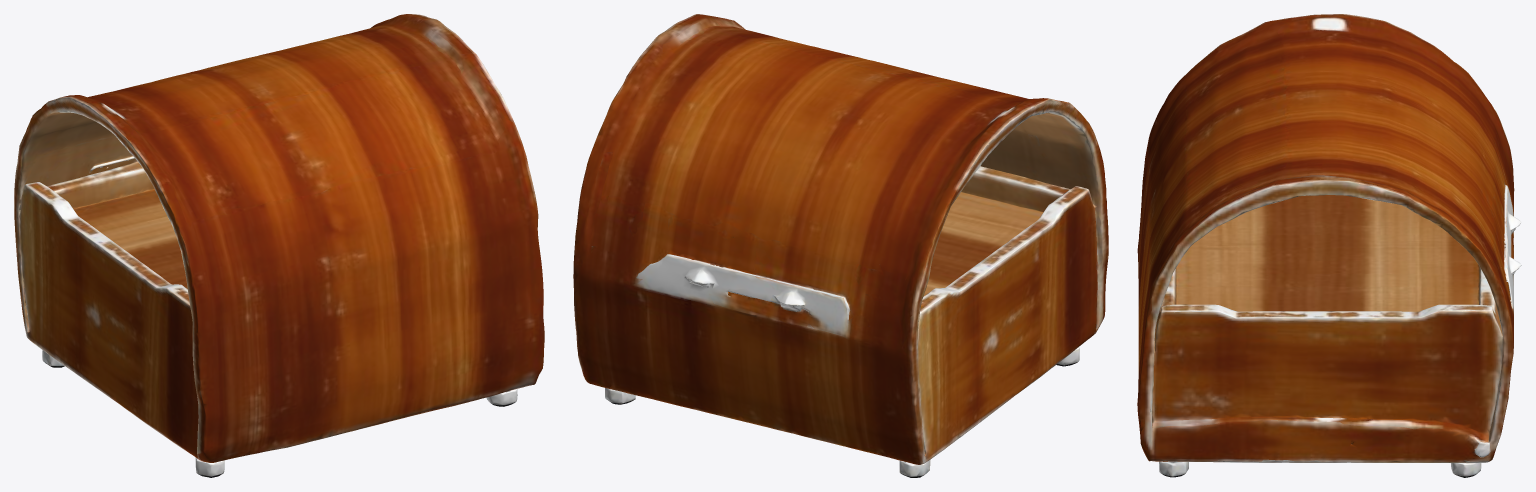
3 views of the same model, side by side, from view 1: azimuth 30°, elevation 25°; view 2: azimuth 150°, elevation 25°; view 3: azimuth 270°, elevation 25° (orthographic). The views are drawn at different scales.
Parts seen in each view (by area): view 1: geometry_0; view 2: geometry_0; view 3: geometry_0.
Part boxes in pixels (bbox=[...]): geometry_0: bbox=[14, 14, 544, 477]; geometry_0: bbox=[573, 14, 1108, 477]; geometry_0: bbox=[1137, 14, 1521, 477].
Bounding box in the file's own units: 1 × 0.8504 × 0.9677.
Materials: 1 (1 with a texture image).
